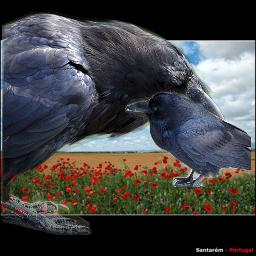Crow: (2, 12, 228, 235), (125, 92, 251, 187)
